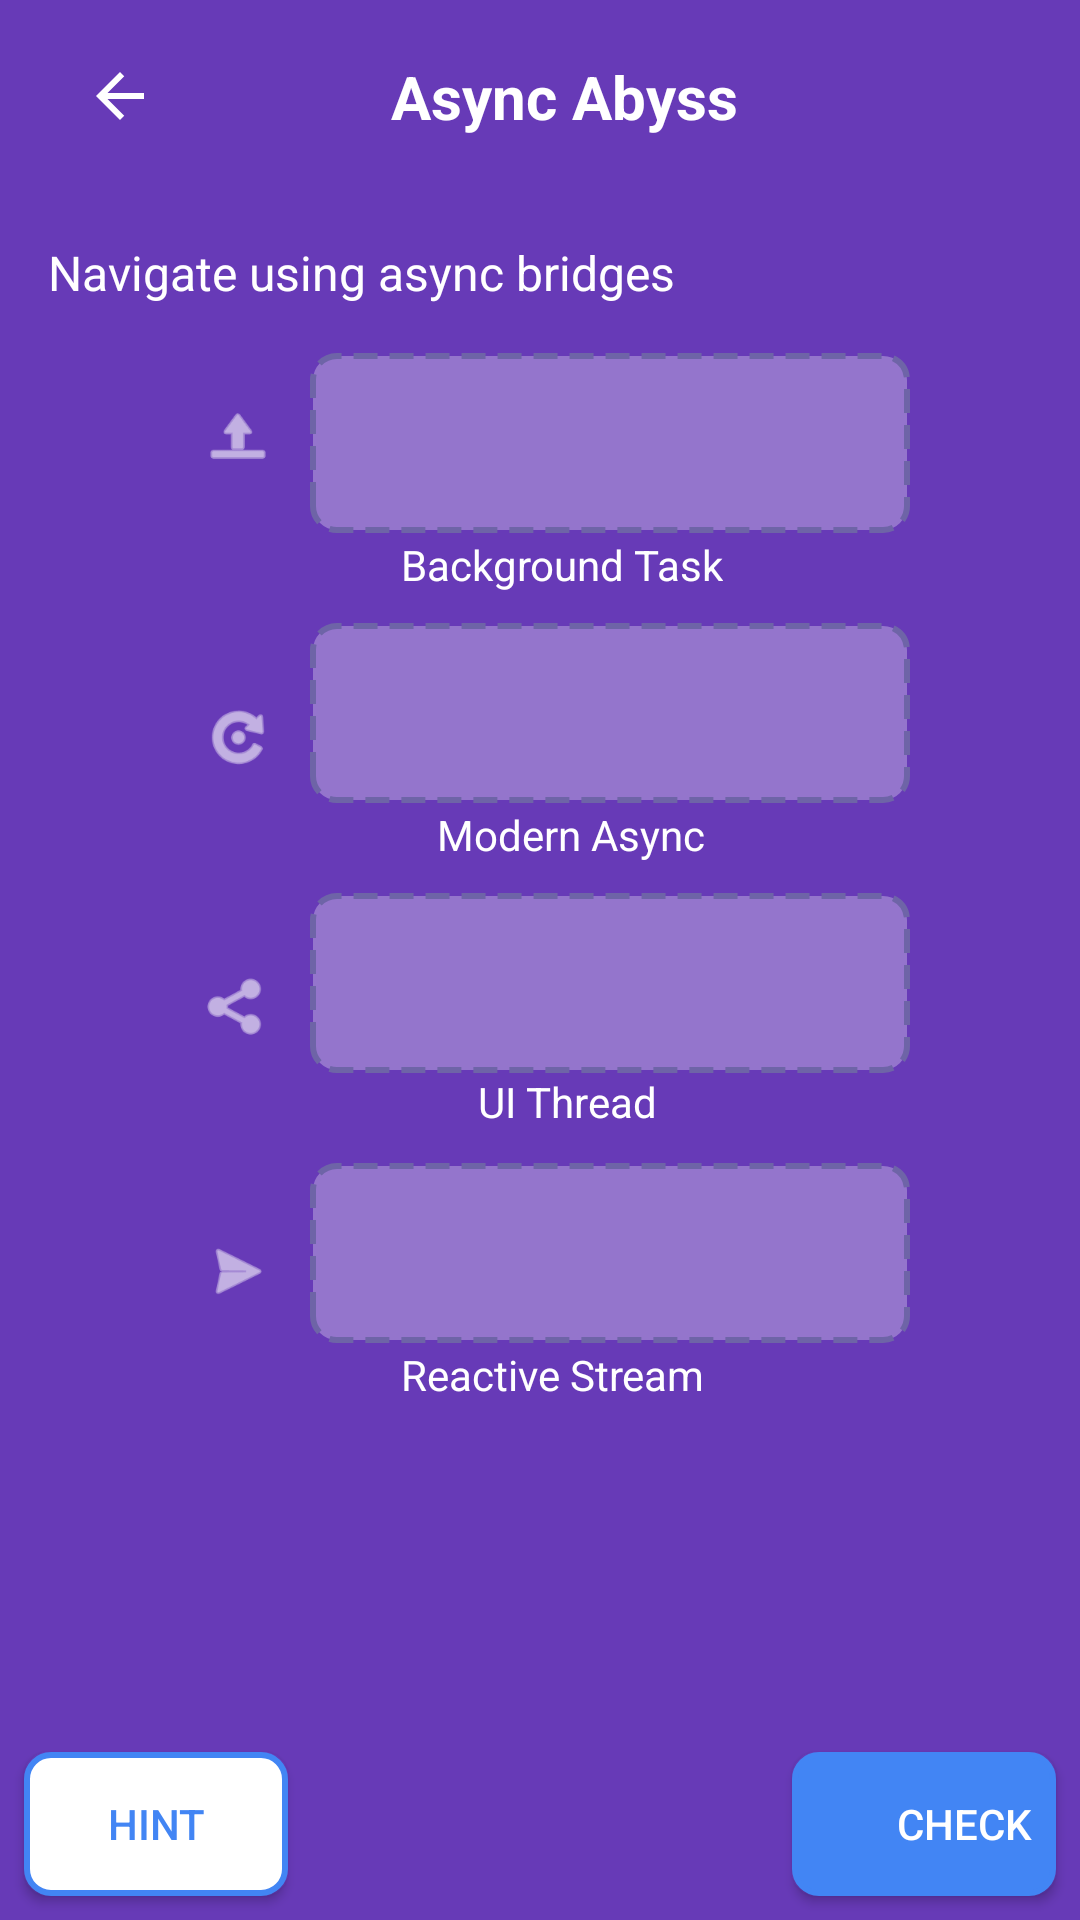

Icon click points for this 1080x1920 phone screenshot, format (x=x, y=y):
BACK: (x=120, y=96)
rotate: (x=238, y=737)
send: (x=239, y=1271)
share: (x=234, y=1006)
upload: (x=238, y=436)
